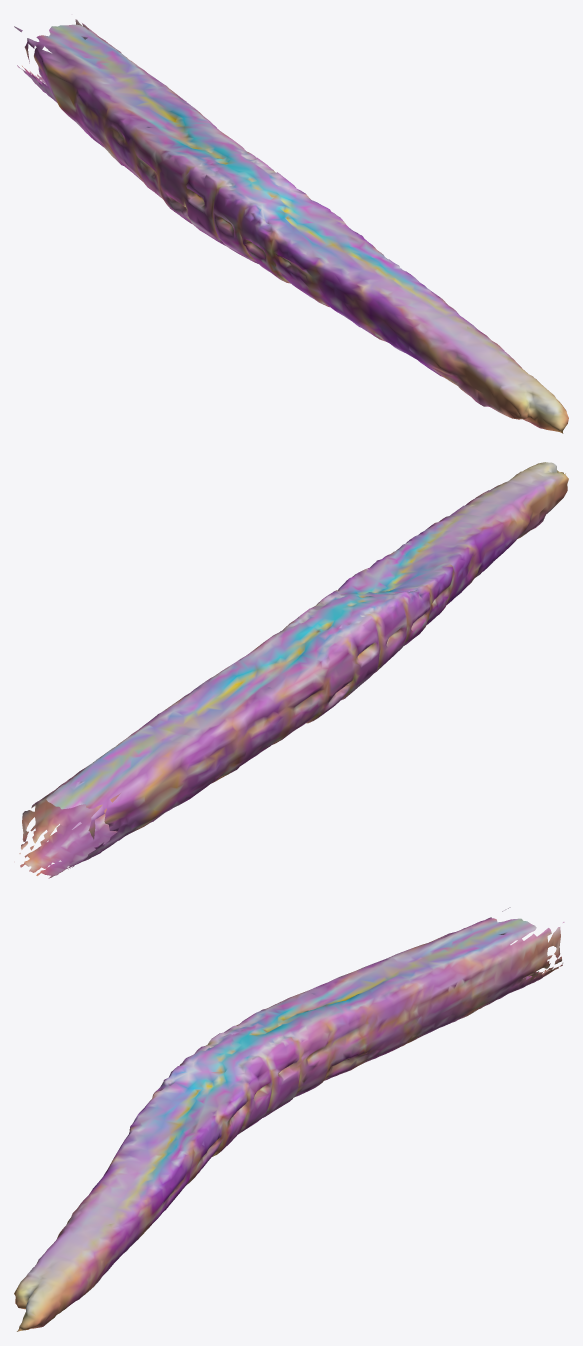
Rendered from full05_underlay.glb.
The picture shows the model from 3 angles, top to bottom: view 1: azimuth 30°, elevation 25°; view 2: azimuth 150°, elevation 25°; view 3: azimuth 330°, elevation 25°; orthographic projection.
Parts seen in each view (by area): view 1: full05_underlay; view 2: full05_underlay; view 3: full05_underlay.
Boxes of the visible parts, <box> form: full05_underlay: <box>14,19,568,433</box>; full05_underlay: <box>19,462,568,878</box>; full05_underlay: <box>14,907,564,1331</box>.
Bounding box in the file's own units: 24.68 × 20.07 × 197.
